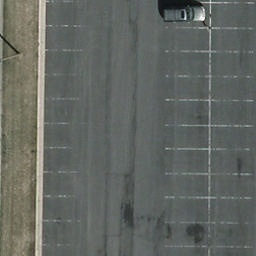car: (163, 8, 208, 22)
